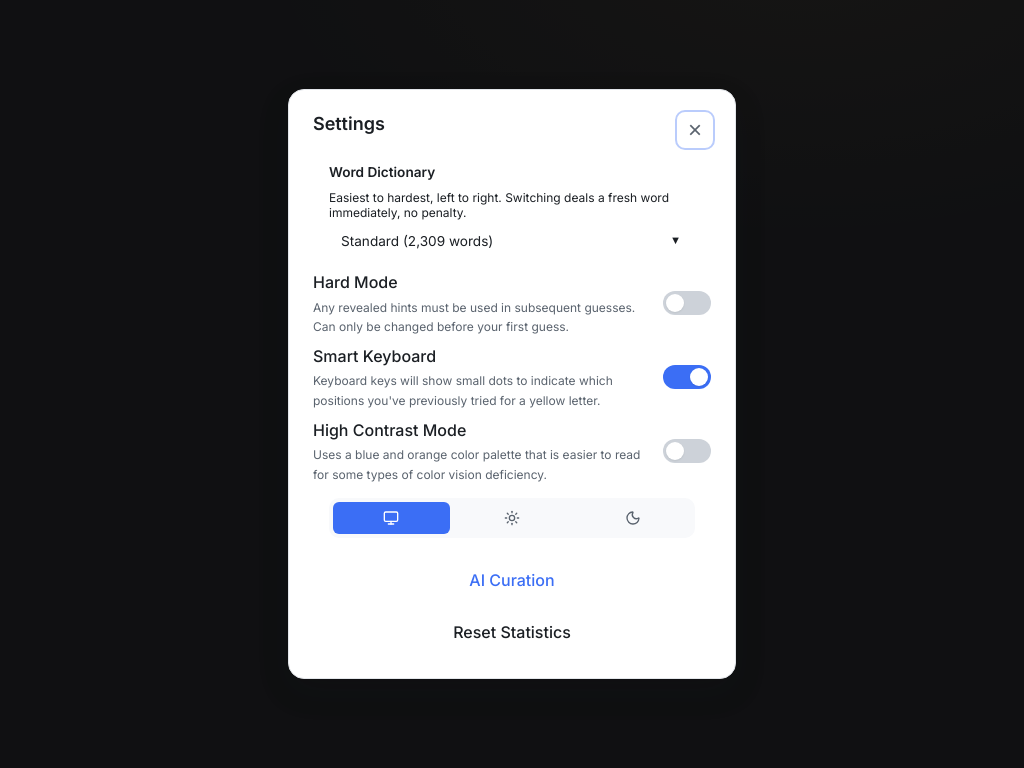
it: Settings component › errors when every word came back invalid
Click the button "AI Curation". click: (512, 580)
box: left=444, top=558, right=580, bottom=602
(page scrolled)
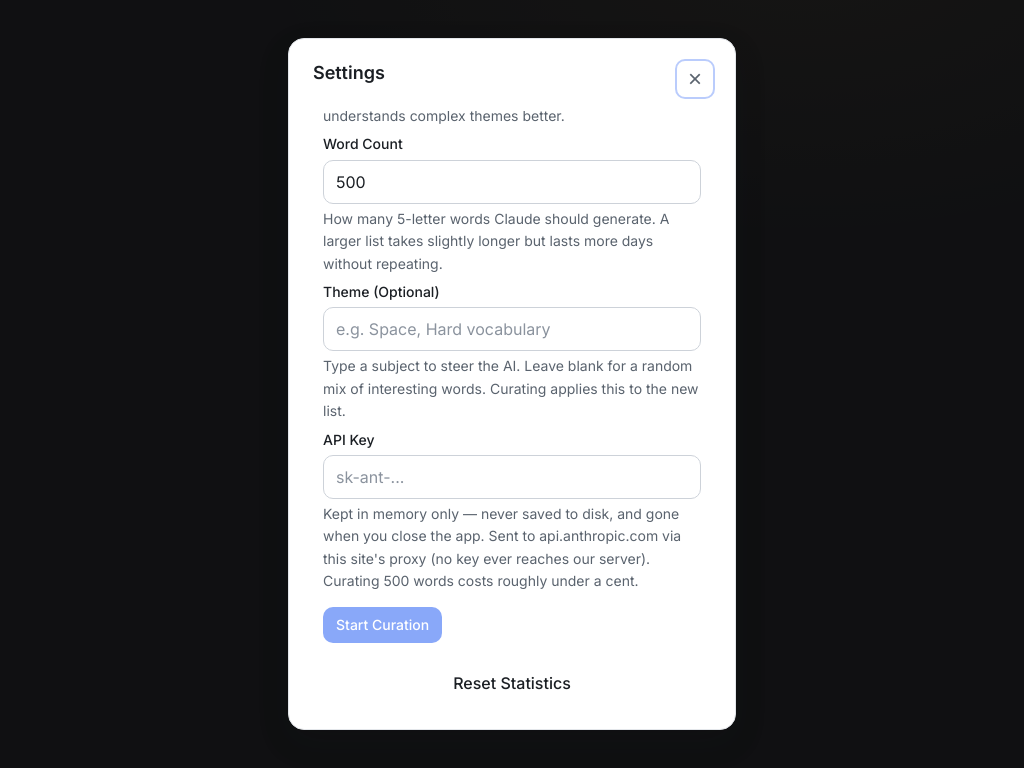
Type "sk-ant-test-key" into the password field with placeholder "sk-ant-...". click: (512, 477)
box: left=323, top=455, right=701, bottom=499
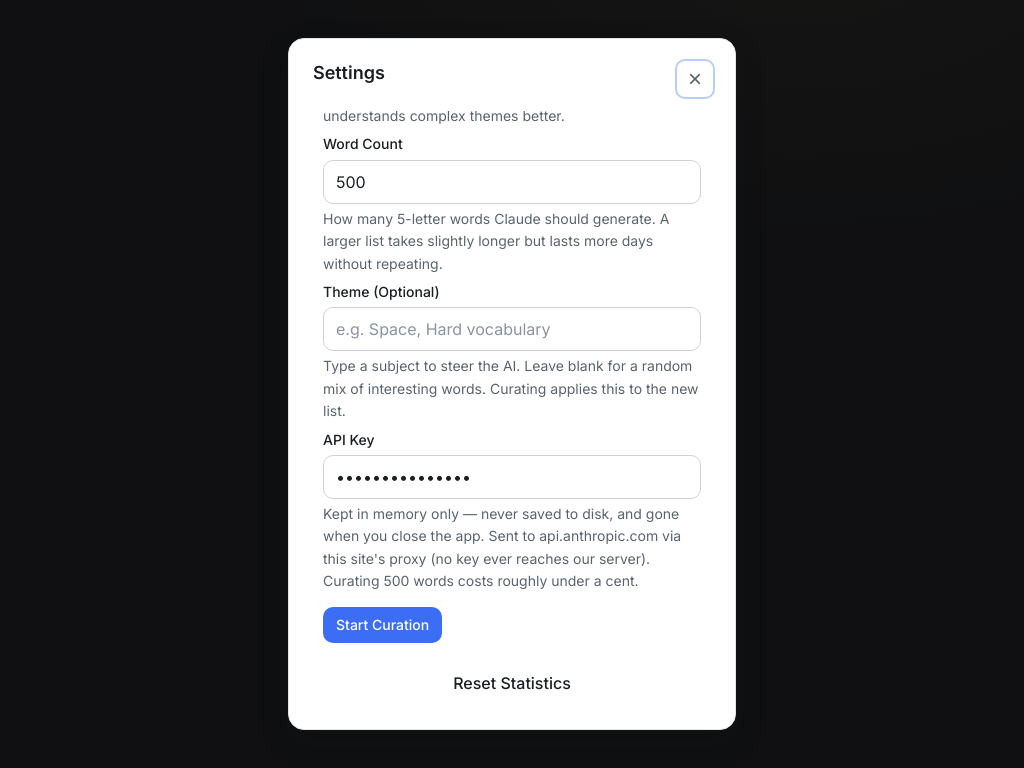
Click the button "Start Curation". click: (383, 624)
box: left=323, top=606, right=442, bottom=642
(page scrolled)
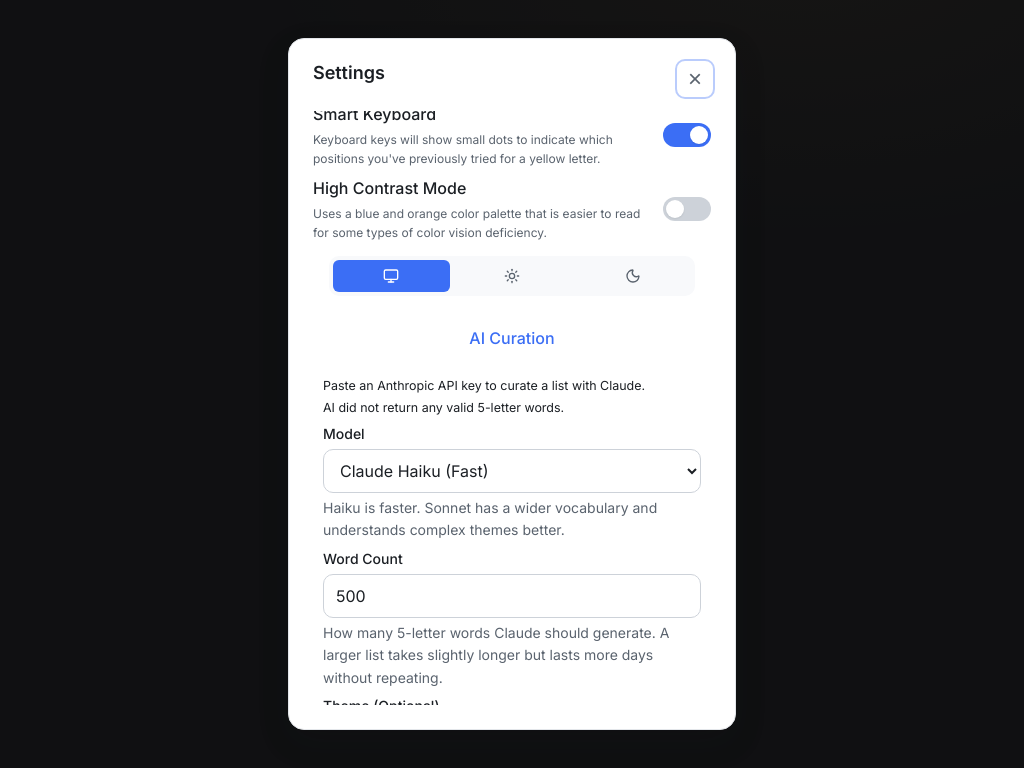
Now the text "AI did not return any valid 5-letter words." is shown, box left=323, top=400, right=564, bottom=415
